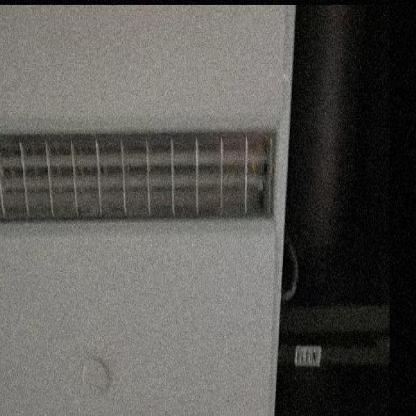light_off: (0, 84, 280, 256)
